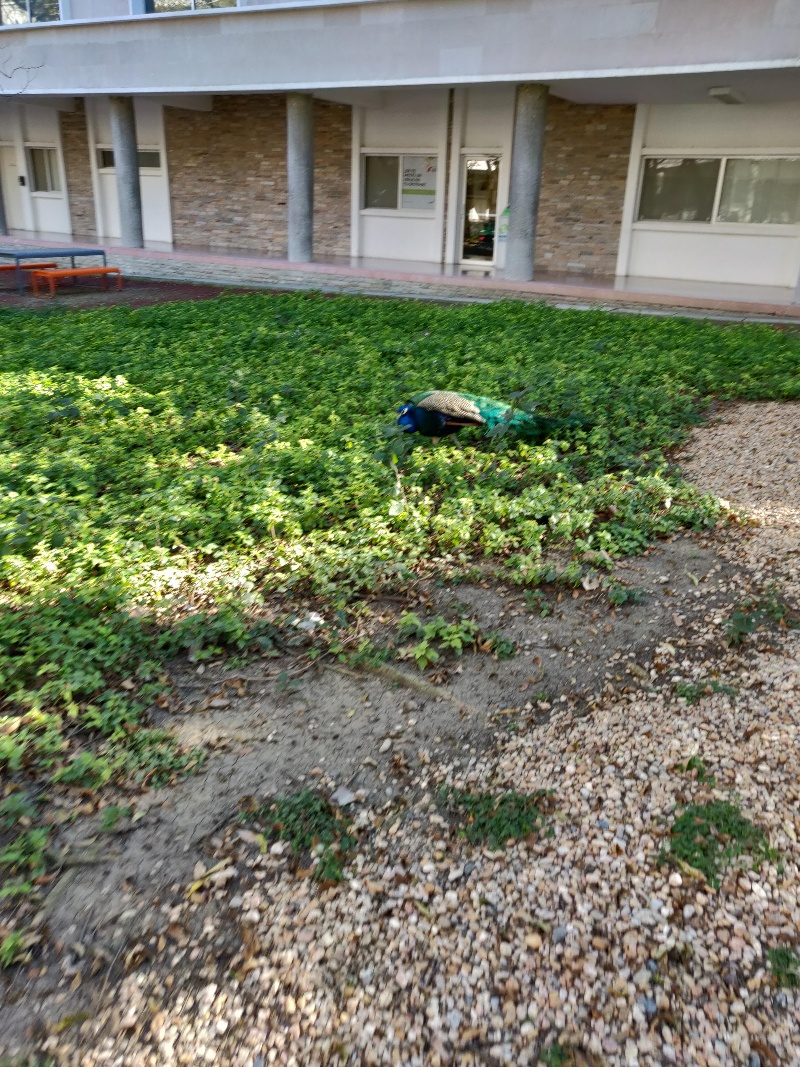pavoreal: (398, 387, 508, 454)
